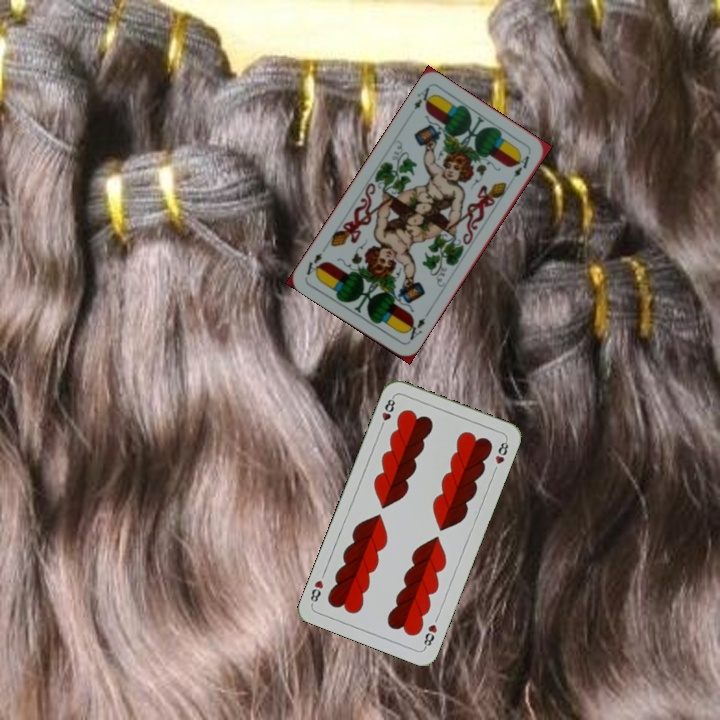EA: (401, 308, 431, 343), (410, 83, 435, 112)
H8: (376, 393, 398, 432), (420, 620, 440, 651)
